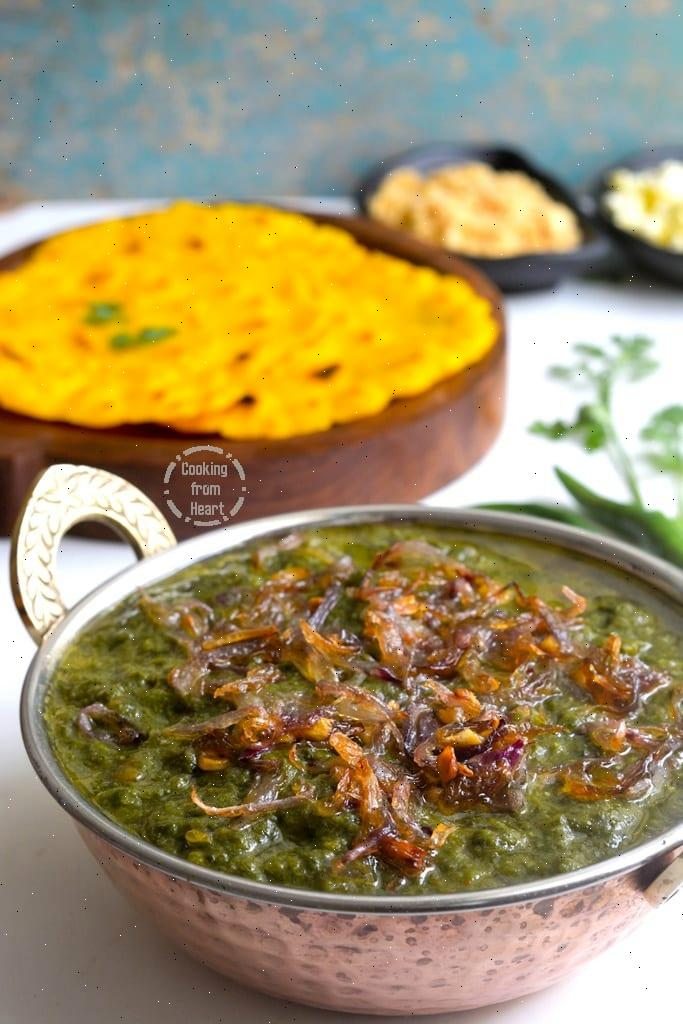saag: (38, 522, 683, 886)
